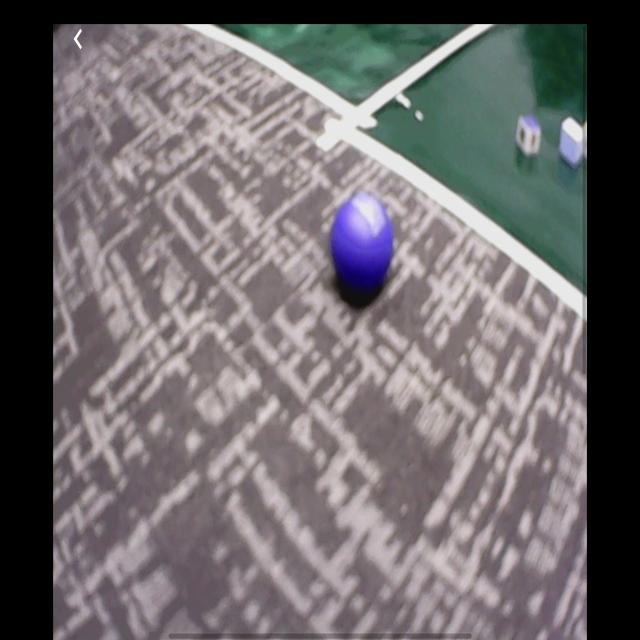ball: (331, 191, 394, 300)
